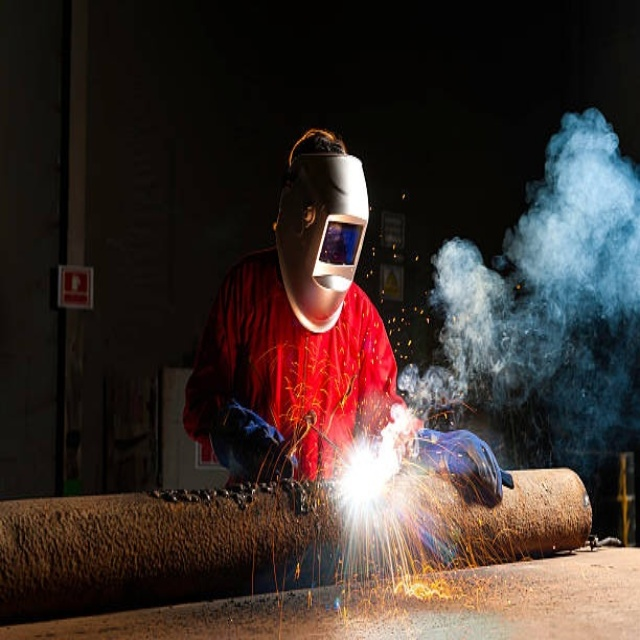Guantes: (207, 391, 304, 493), (405, 420, 505, 508)
